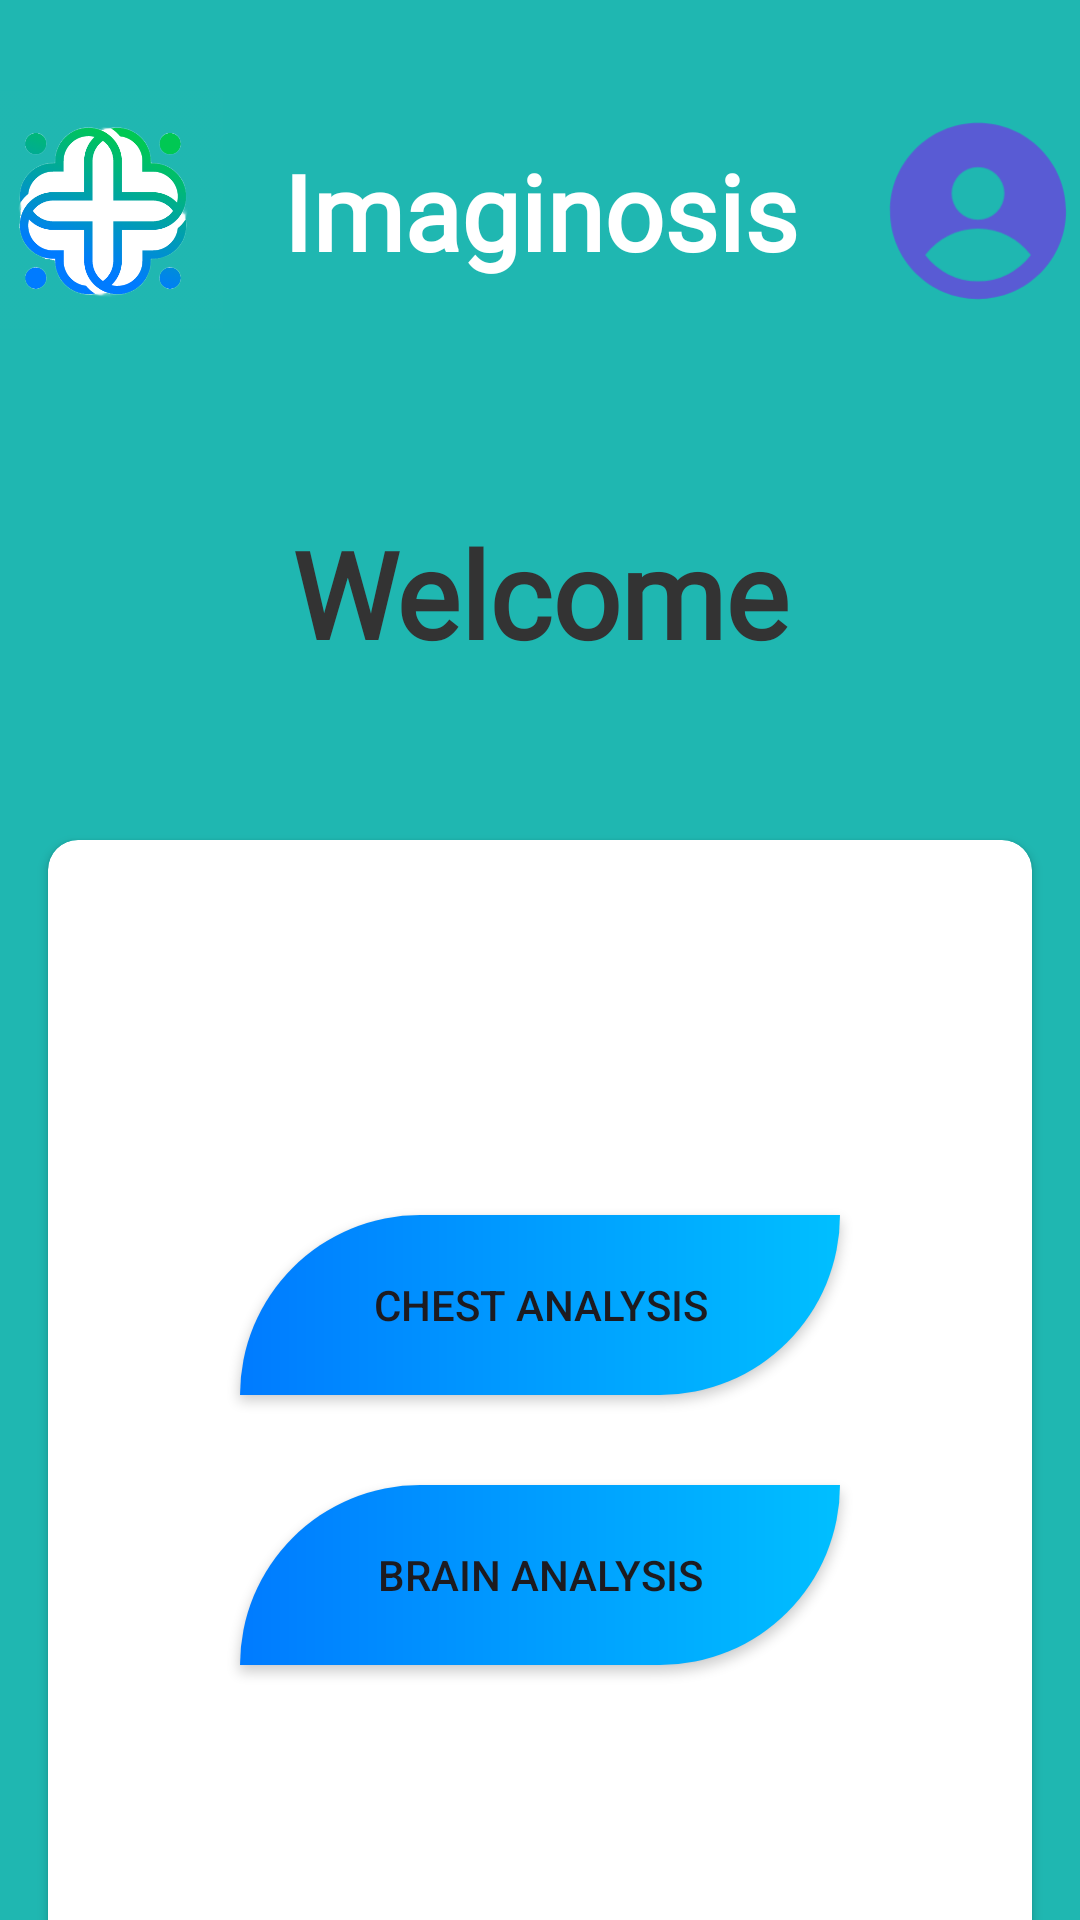

Named icons in this screenshot (1080*1920) and their bounding boxes, (x1, y1, x2, y2):
admin: (890, 123, 1066, 299)
